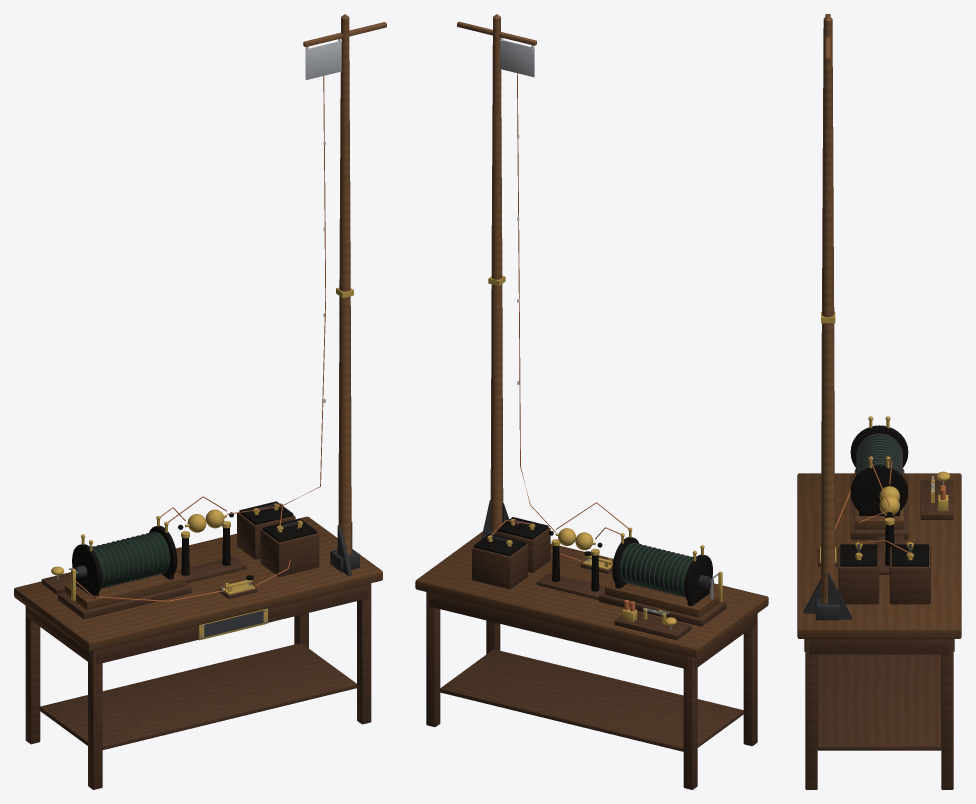
Rendered from marconi.glb.
3 views of the same model, side by side, from view 1: azimuth 30°, elevation 25°; view 2: azimuth 150°, elevation 25°; view 3: azimuth 270°, elevation 25° (orthographic). The views are drawn at different scales.
Visible parts, largest first — view 1: marconi_static, plaque_static; view 2: marconi_static, receiver_static; view 3: marconi_static, receiver_static.
Part boxes in pixels (bbox=[...]): marconi_static: bbox=[14, 14, 386, 789]; plaque_static: bbox=[198, 608, 267, 640]; marconi_static: bbox=[415, 14, 768, 789]; receiver_static: bbox=[614, 600, 691, 640]; marconi_static: bbox=[797, 14, 961, 789]; receiver_static: bbox=[920, 471, 953, 519].
Bounding box in the file's own units: 1.9 × 4.11 × 0.8.
Materials: 13 (7 with a texture image).
